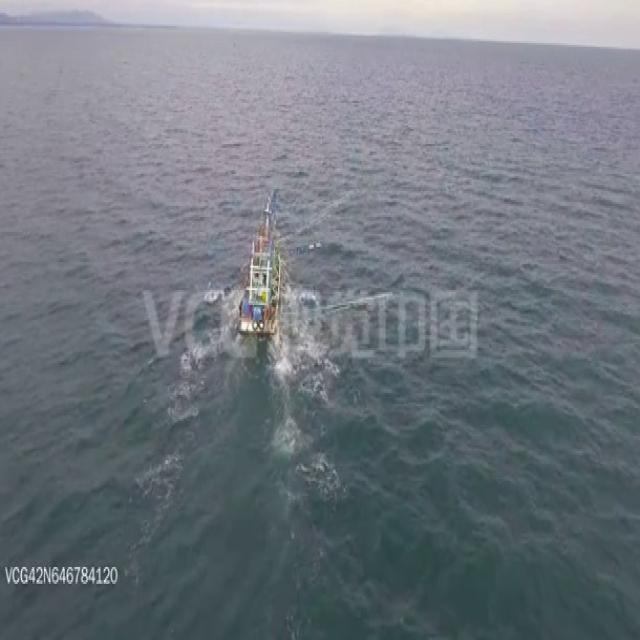fishing boat: (239, 182, 280, 341)
